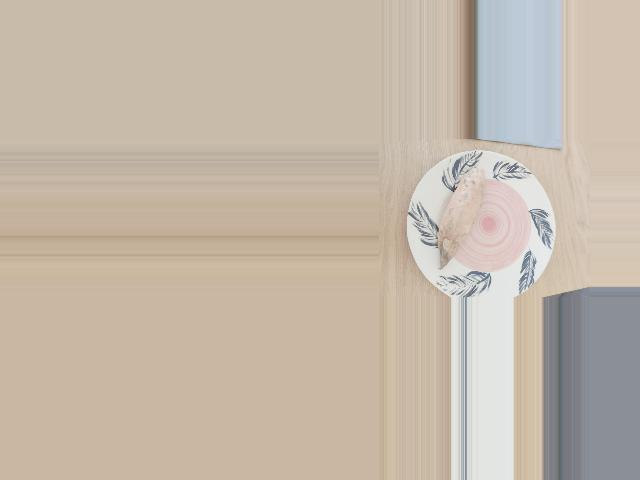sweet_potato: (437, 173, 488, 259)
